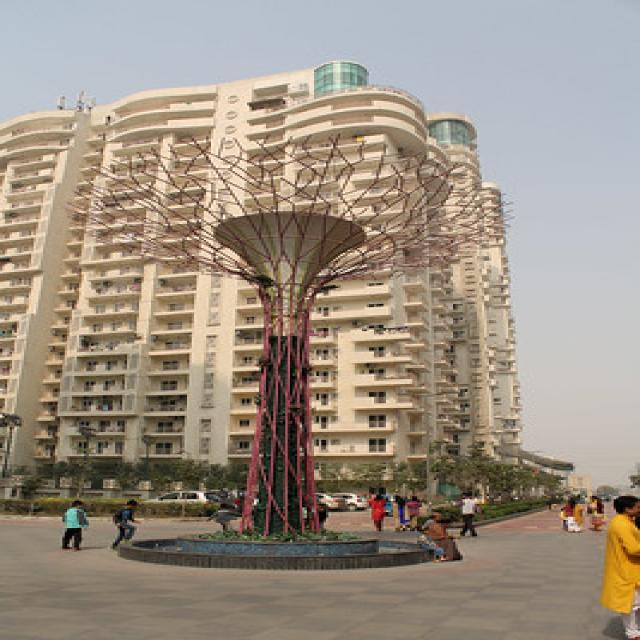Normal_building: (5, 58, 532, 521)
